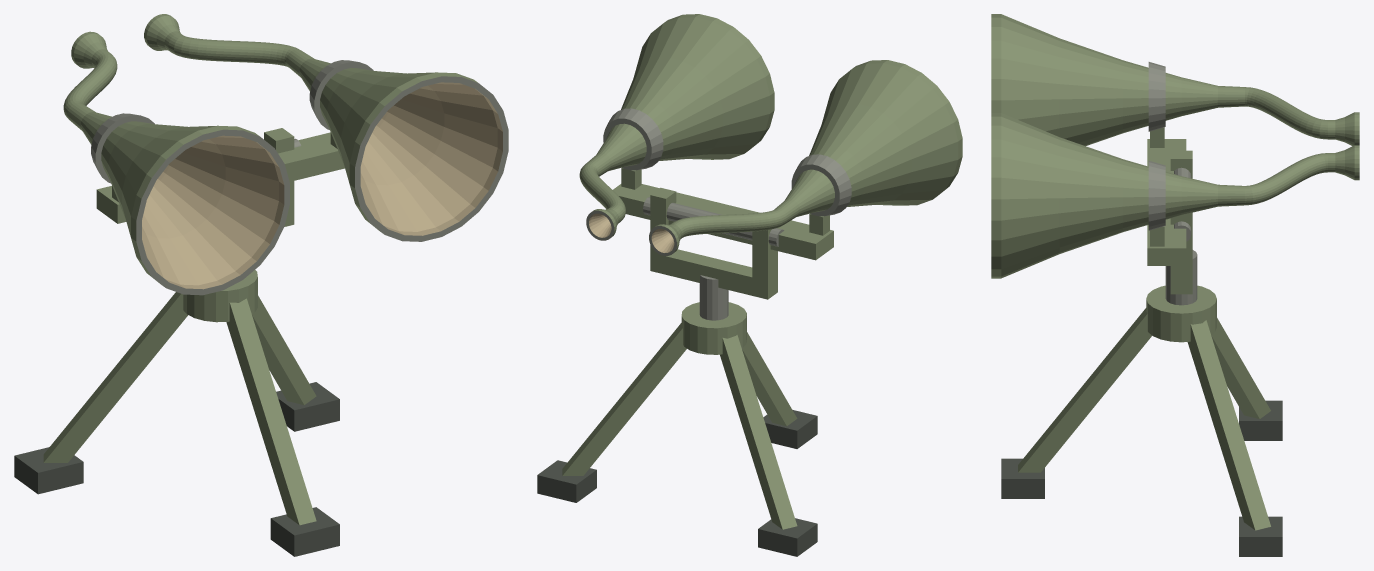
The picture shows the model from 3 angles, left to right: view 1: azimuth 30°, elevation 25°; view 2: azimuth 150°, elevation 25°; view 3: azimuth 270°, elevation 25°; orthographic projection. The views are drawn at different scales.
Parts seen in each view (by area): view 1: WholeFlaredHornBentListeningPathR, WholeFlaredHornBentListeningPathL, WholeSplayedLeg0, WholeSplayedLeg2, WholeReceiverCrossBridge, WholeSplayedLeg1, WholeGroundFoot0, WholeGroundFoot2, WholePedestalHub, WholeGroundFoot1, WholeTaperedReceiverCollarL, WholeTaperedReceiverCollarR (+1 smaller); view 2: WholeFlaredHornBentListeningPathL, WholeFlaredHornBentListeningPathR, WholeOpenPitchFork, WholeSplayedLeg2, WholeSplayedLeg1, WholeReceiverCrossBridge, WholePedestalHub, WholeSplayedLeg0, WholeGroundFoot2, WholeGroundFoot1, WholeTaperedReceiverCollarR, WholeTaperedReceiverCollarL (+3 smaller); view 3: WholeFlaredHornBentListeningPathR, WholeFlaredHornBentListeningPathL, WholeSplayedLeg1, WholeSplayedLeg0, WholePedestalHub, WholeSplayedLeg2, WholeReceiverCrossBridge, WholeOpenPitchFork, WholeGroundFoot1, WholeGroundFoot0, WholeGroundFoot2, WholeTaperedReceiverCollarR (+2 smaller).
Part boxes in pixels (x1,y1,x2,y2): WholeFlaredHornBentListeningPathR: [144, 14, 508, 241]; WholeFlaredHornBentListeningPathL: [63, 31, 289, 295]; WholeSplayedLeg0: [226, 298, 316, 525]; WholeSplayedLeg2: [43, 292, 187, 462]; WholeReceiverCrossBridge: [96, 132, 344, 223]; WholeSplayedLeg1: [252, 295, 316, 405]; WholeGroundFoot0: [270, 507, 339, 556]; WholeGroundFoot2: [14, 447, 83, 494]; WholePedestalHub: [183, 270, 257, 322]; WholeGroundFoot1: [276, 382, 339, 431]; WholeTaperedReceiverCollarL: [91, 113, 154, 183]; WholeTaperedReceiverCollarR: [309, 60, 373, 129]; WholeFlaredHornBentListeningPathL: [649, 60, 962, 255]; WholeFlaredHornBentListeningPathR: [579, 14, 774, 240]; WholeOpenPitchFork: [650, 187, 777, 299]; WholeSplayedLeg2: [720, 335, 797, 529]; WholeSplayedLeg1: [562, 323, 686, 475]; WholeReceiverCrossBridge: [613, 184, 833, 260]; WholePedestalHub: [681, 302, 746, 354]; WholeSplayedLeg0: [742, 332, 797, 426]; WholeGroundFoot2: [758, 518, 817, 556]; WholeGroundFoot1: [537, 460, 596, 502]; WholeTaperedReceiverCollarR: [603, 108, 663, 170]; WholeTaperedReceiverCollarL: [791, 154, 851, 216]; WholeFlaredHornBentListeningPathR: [991, 113, 1359, 278]; WholeFlaredHornBentListeningPathL: [991, 14, 1359, 146]; WholeSplayedLeg1: [1187, 320, 1270, 530]; WholeSplayedLeg0: [1018, 308, 1151, 472]; WholePedestalHub: [1146, 285, 1216, 342]; WholeSplayedLeg2: [1211, 318, 1270, 418]; WholeReceiverCrossBridge: [1147, 139, 1186, 265]; WholeOpenPitchFork: [1170, 150, 1192, 294]; WholeGroundFoot1: [1239, 516, 1282, 556]; WholeGroundFoot0: [1001, 458, 1044, 498]; WholeGroundFoot2: [1239, 400, 1282, 440]; WholeTaperedReceiverCollarR: [1148, 160, 1165, 230].
Bounding box in the file's own units: 1.63 × 1.89 × 1.51.
